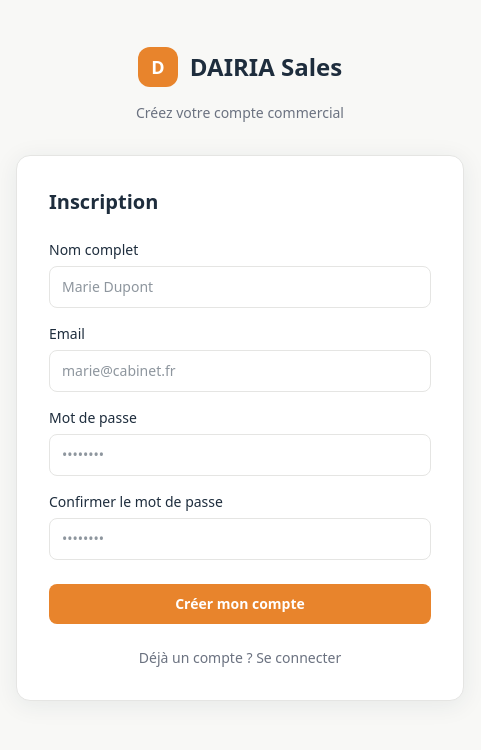
Test: RegisterPage › shows short password error
Step 1. Type "Test User" into the field labelled "Nom complet" → (240, 287), box [49,266,431,308]
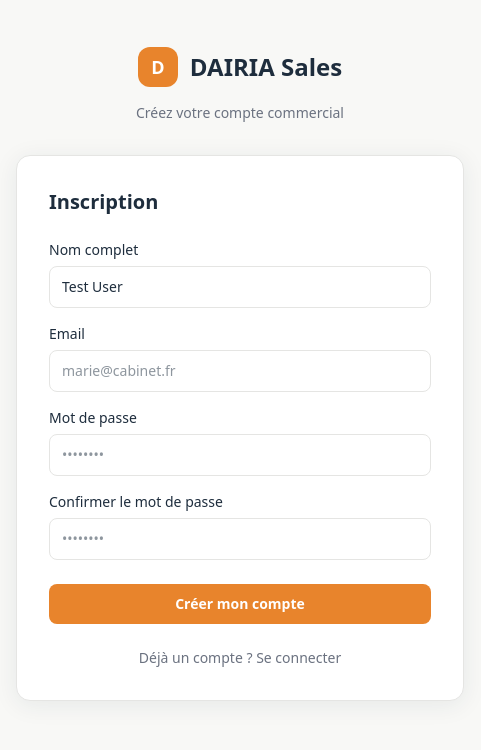
Step 2. Type "test@example.com" into the field labelled "Email" → (240, 371), box [49,350,431,392]
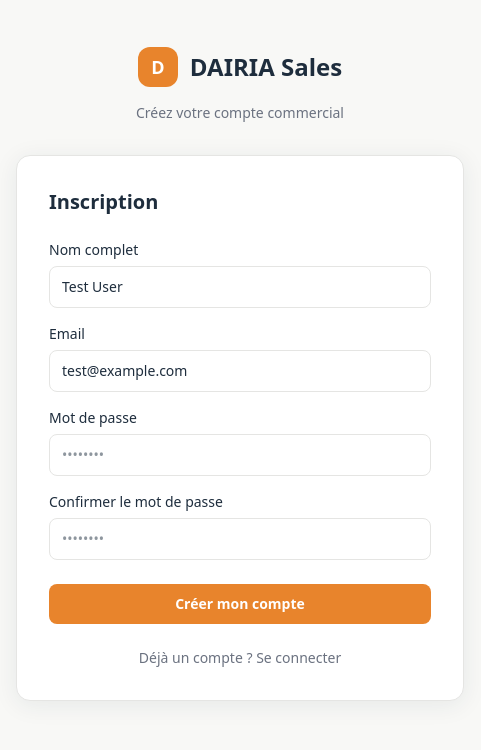
Step 3. Type "pass" into the password field labelled "Mot de passe" → (240, 455), box [49,434,431,476]
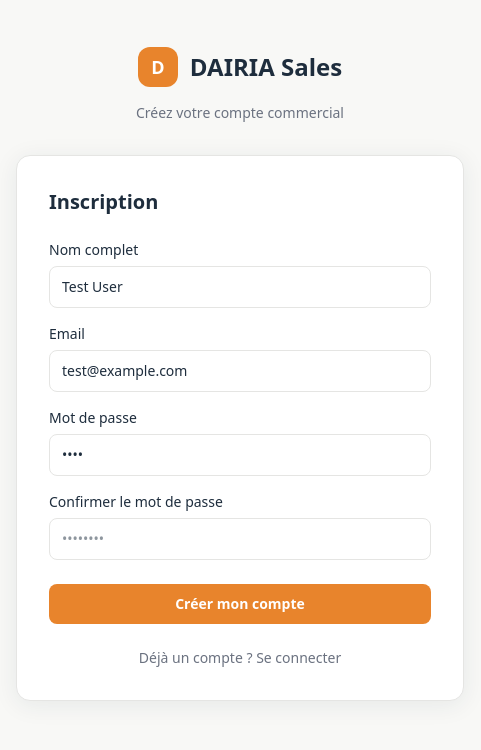
Step 4. Type "pass" into the password field labelled "Confirmer le mot de passe" → (240, 539), box [49,518,431,560]
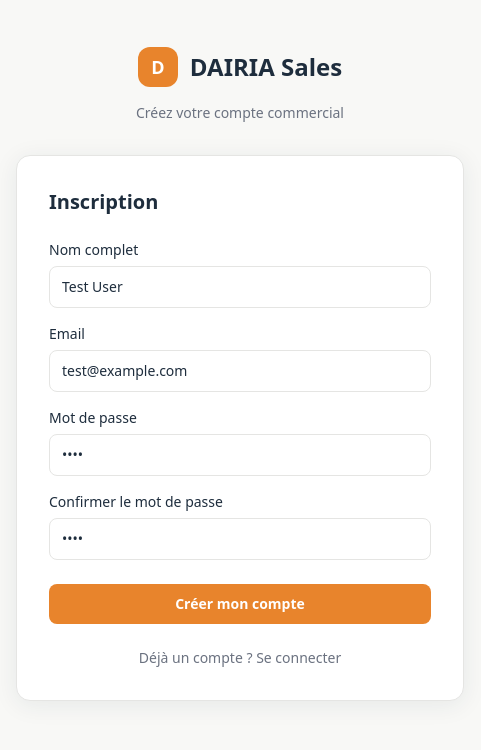
Step 5. Click the button "Créer mon compte" → (240, 604), box [49,584,431,624]
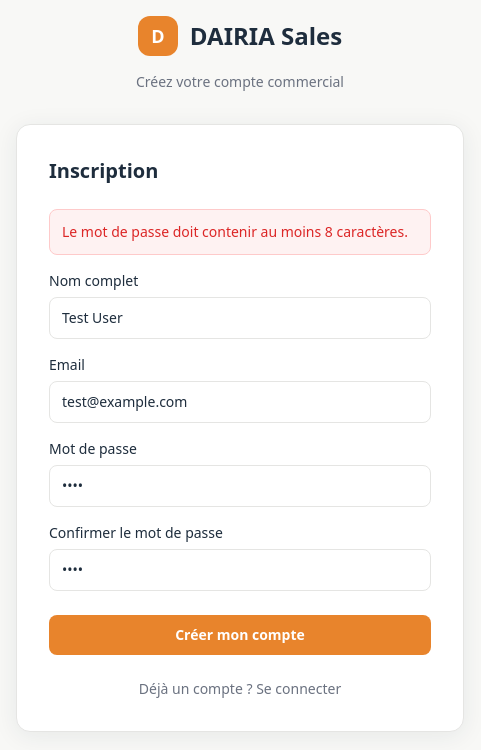
Result: the text "Le mot de passe doit contenir au moins 8 caractères." is shown at [49,209,431,255]
